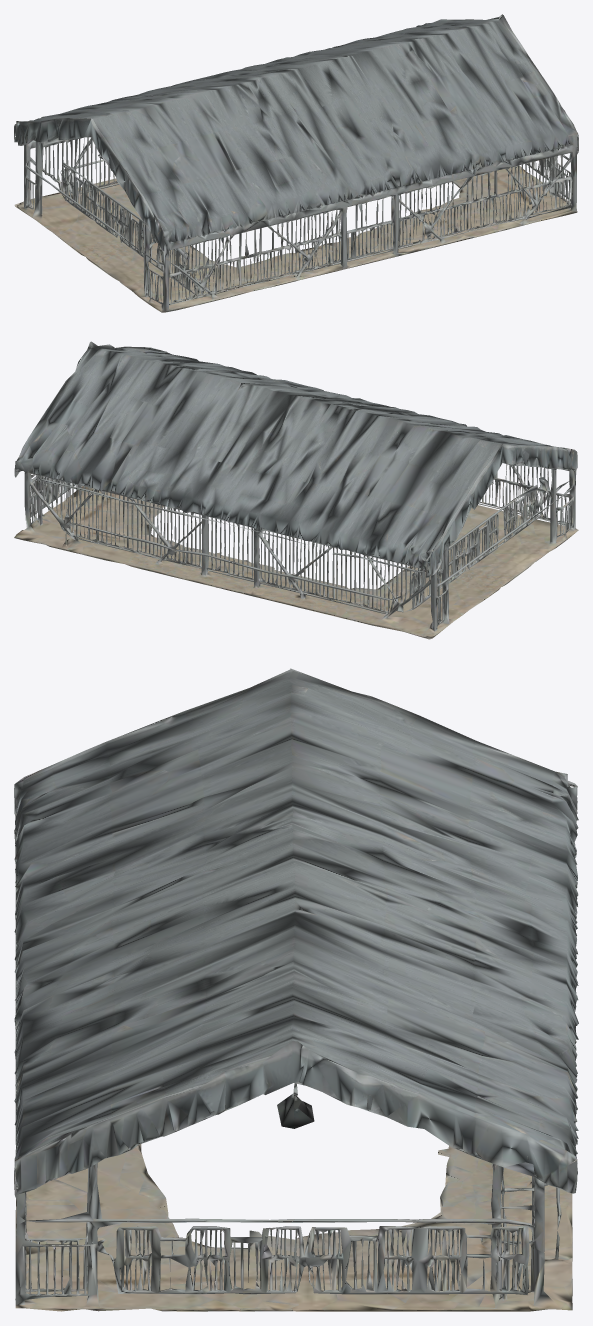
File: dairy-barn-lite.glb
3 renders of one model, top to bottom at view 1: azimuth 30°, elevation 25°; view 2: azimuth 150°, elevation 25°; view 3: azimuth 270°, elevation 25°, orthographic. The views are drawn at different scales.
Size of the model in its own units: 1.9 by 0.622 by 1.19.
Materials: 1 (1 with a texture image).
